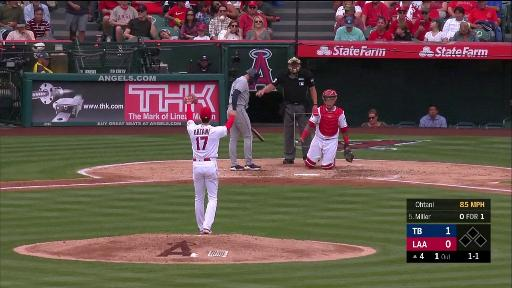pitcher: (182, 93, 238, 233)
